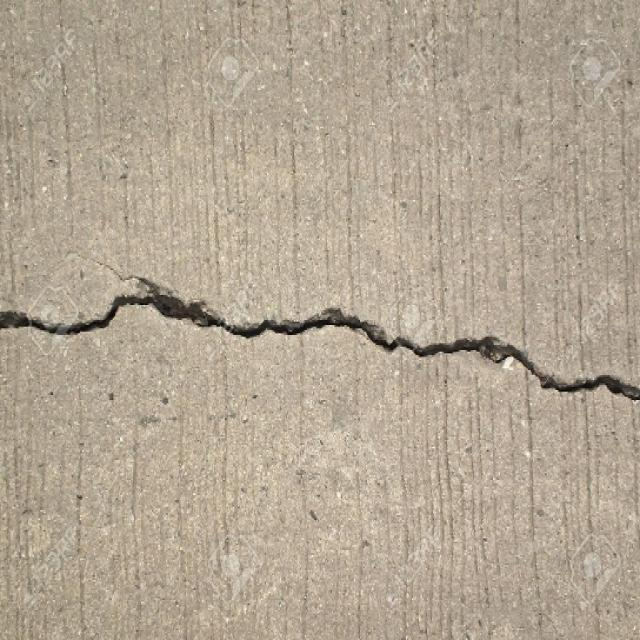Transverse: (0, 269, 640, 408)
